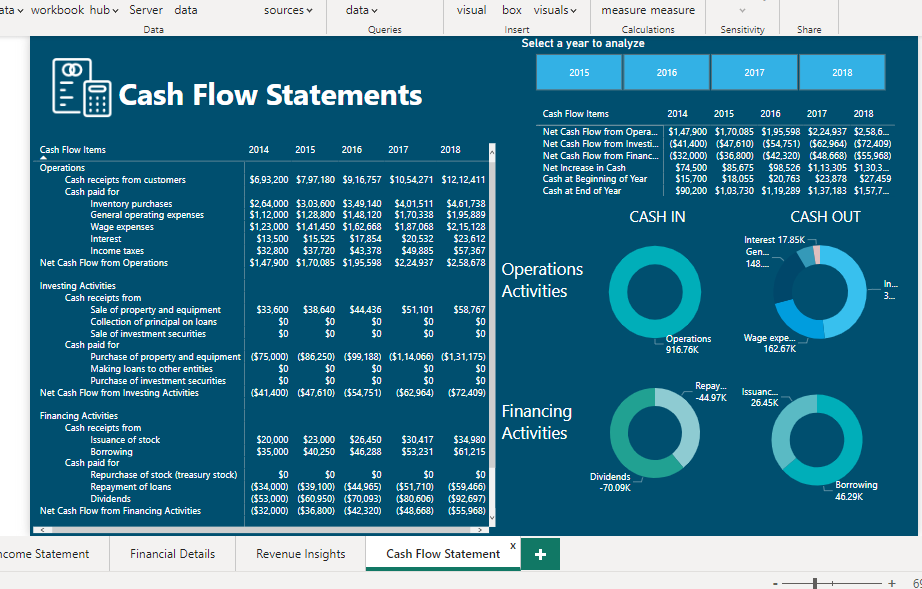

The dashboard page shown, as its layout file describes it:
{"tool":"powerbi","page":{"name":"Cash Flow Statement","canvas":[1280,720],"ordinal":4},"visuals":[{"type":"pivotTable","fields":{"Rows":["Cash Flow Template.Row Index","Cash Flow Template.Cash Flow Items"],"Values":["Cash Flow Analysis.C/F Value"],"Columns":["Dates.Year"]},"box":[0,149.3,674.6,570.7],"z":0},{"type":"pivotTable","fields":{"Rows":["Cash Flow Template.Row Index","Cash Flow Template.Cash Flow Items"],"Values":["Cash Flow Analysis.C/F Value"],"Columns":["Dates.Year"]},"box":[724.4,98,542.9,140.5],"z":1000},{"type":"textbox","box":[122.4,49,466.6,72],"z":1001},{"type":"image","box":[27.4,15.8,95,116.6],"z":1002},{"type":"slicer","title":"Select a year to analyze","fields":{"Values":["Dates.Year"]},"box":[702.7,0,553,85],"z":1003},{"type":"donutChart","fields":{"Y":["Cash Flow Analysis.Cash Receipt From - Customers"],"Category":["Cash Flow Data.Cash Flow Type"]},"box":[784.8,265,230.4,207.4],"z":1004},{"type":"donutChart","fields":{"Y":["Cash Flow Analysis.Cash Expense operations"],"Category":["Cash Flow Data.Cash Flow Sub Category"]},"box":[1019.5,265,236.2,207.4],"z":1005},{"type":"donutChart","fields":{"Y":["Cash Flow Analysis.Financing Activites cash in"],"Category":["Cash Flow Data.Cash Flow Sub Category"]},"box":[784.8,472.3,230.4,198.7],"z":1006},{"type":"donutChart","fields":{"Y":["Cash Flow Analysis.Financing Activites cash out"],"Category":["Cash Flow Data.Cash Flow Sub Category"]},"box":[1015.2,482.4,236.2,198.7],"z":1007},{"type":"textbox","box":[673.9,312.5,139.7,95],"z":1008},{"type":"textbox","box":[673.9,517,121,93.6],"z":1009},{"type":"textbox","box":[858.2,240.5,108,47.5],"z":1010},{"type":"textbox","box":[1090.1,240.5,121,47.5],"z":1011}]}

Visuals, with their boxes on the page's 1280x720 design canvas (x1, y1, x2, y2). These are canvas units, not pixel positions in the 922x589 screenshot, which may show the page scaled, cropped or inside an application window:
pivotTable - Cash Flow Template.Row Index x Cash Flow Template.Cash Flow Items: BBox(0, 149, 675, 720)
pivotTable - Cash Flow Template.Row Index x Cash Flow Template.Cash Flow Items: BBox(724, 98, 1267, 238)
textbox: BBox(122, 49, 589, 121)
image: BBox(27, 16, 122, 132)
"Select a year to analyze" slicer: BBox(703, 0, 1256, 85)
donutChart - Cash Flow Analysis.Cash Receipt From - Customers x Cash Flow Data.Cash Flow Type: BBox(785, 265, 1015, 472)
donutChart - Cash Flow Analysis.Cash Expense operations x Cash Flow Data.Cash Flow Sub Category: BBox(1020, 265, 1256, 472)
donutChart - Cash Flow Analysis.Financing Activites cash in x Cash Flow Data.Cash Flow Sub Category: BBox(785, 472, 1015, 671)
donutChart - Cash Flow Analysis.Financing Activites cash out x Cash Flow Data.Cash Flow Sub Category: BBox(1015, 482, 1251, 681)
textbox: BBox(674, 312, 814, 408)
textbox: BBox(674, 517, 795, 611)
textbox: BBox(858, 240, 966, 288)
textbox: BBox(1090, 240, 1211, 288)
